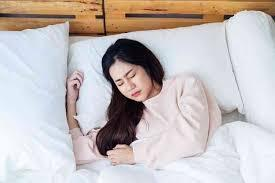Drowsy: (105, 33, 162, 106)
